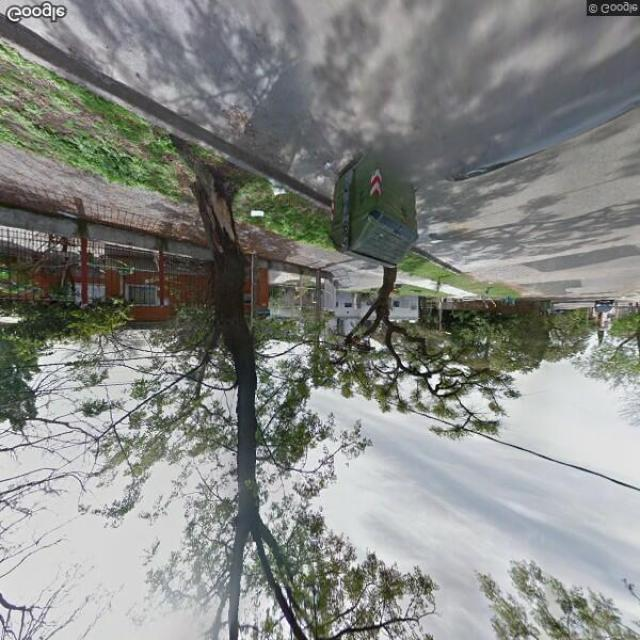garbage container: (321, 147, 431, 275)
